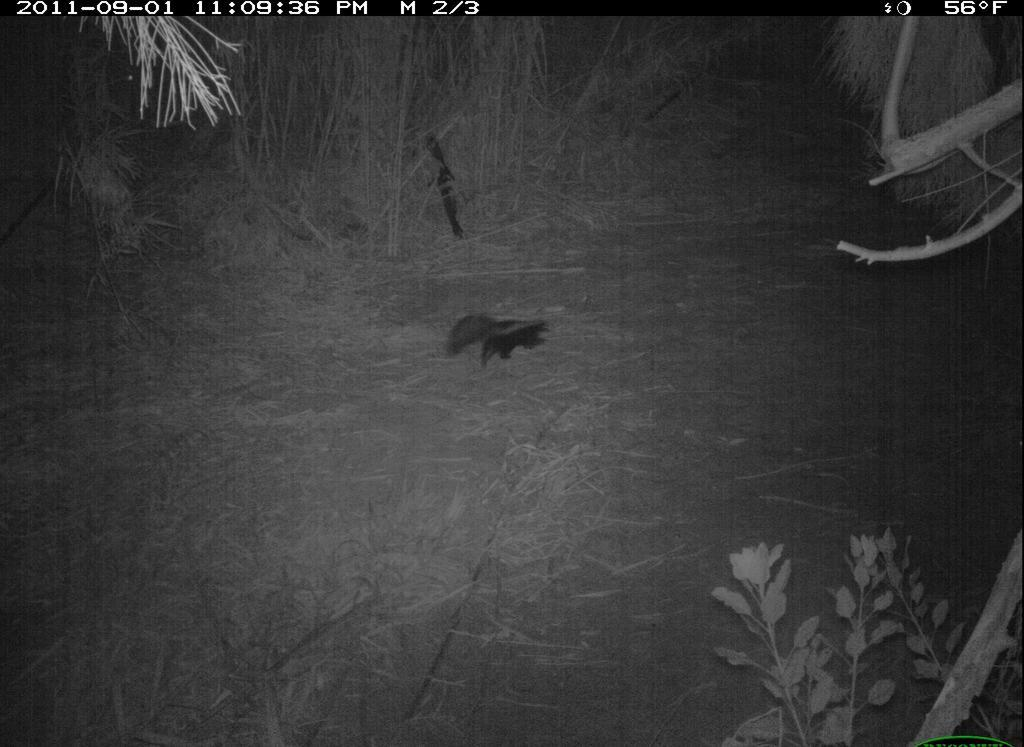skunk: (428, 303, 560, 379)
